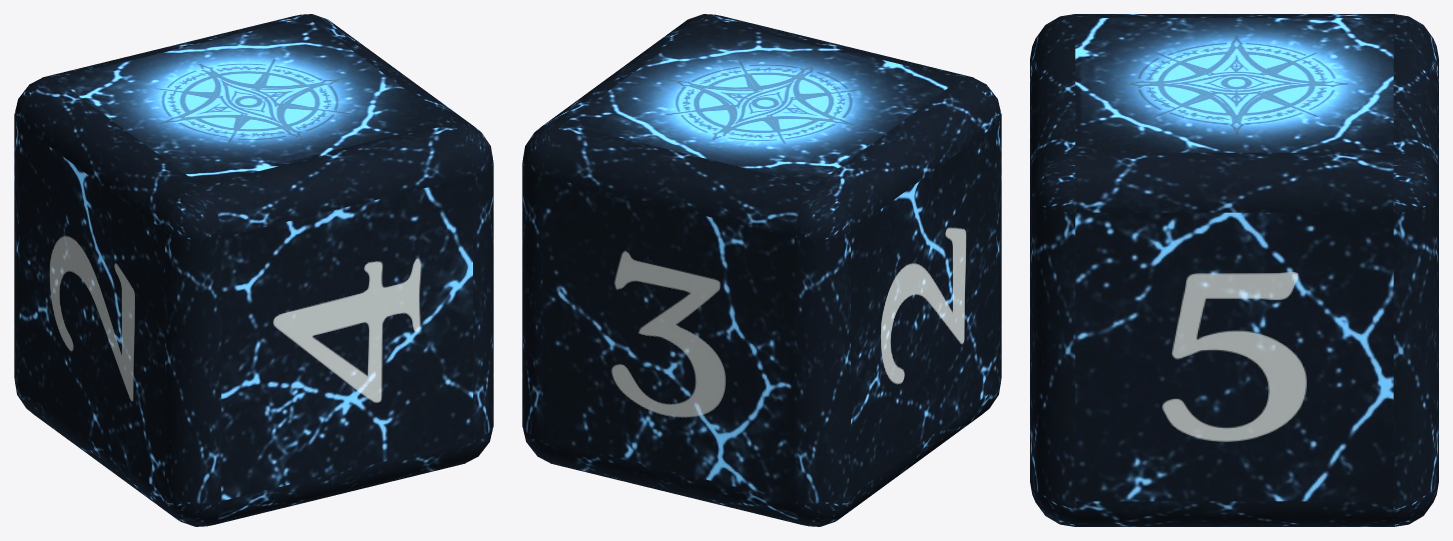
The model's file is d6_path_flux.glb.
3 renders of one model, left to right at view 1: azimuth 30°, elevation 25°; view 2: azimuth 150°, elevation 25°; view 3: azimuth 270°, elevation 25°, orthographic. The views are drawn at different scales.
Visible parts, largest first — view 1: d6; view 2: d6; view 3: d6.
Part boxes in pixels (<box>): d6: <box>14,14,493,526</box>; d6: <box>522,14,1001,526</box>; d6: <box>1030,14,1438,526</box>.
Bounding box in the file's own units: 104 × 104 × 104.
Materials: 1 (1 with a texture image).
